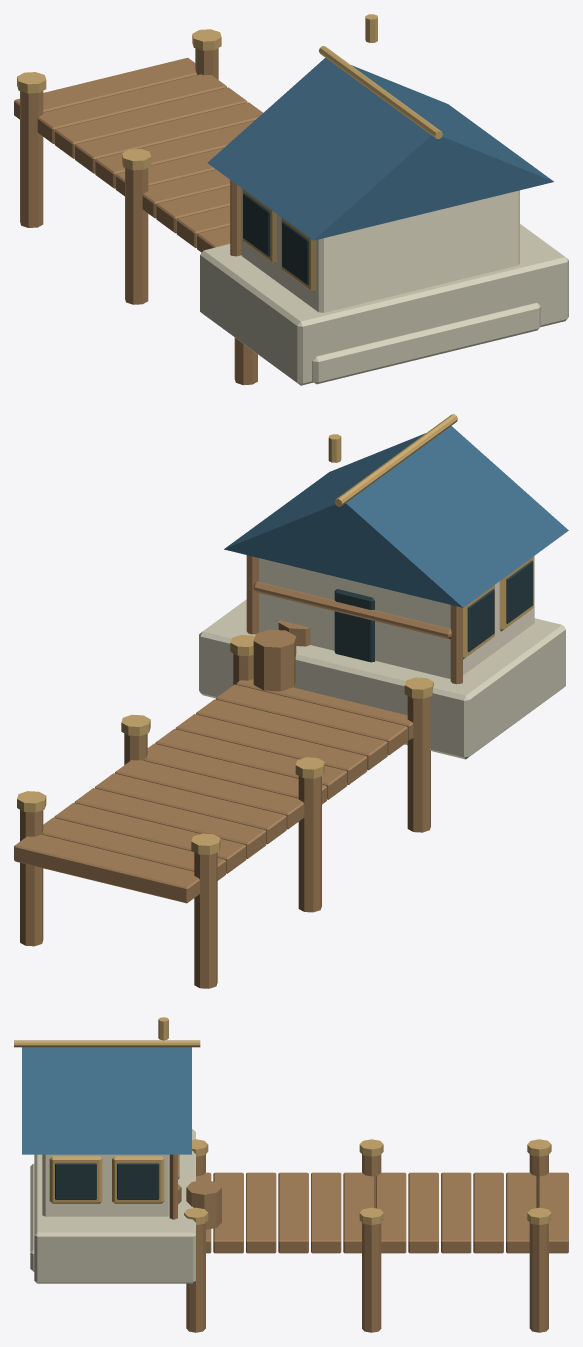
File: level_04.glb
The picture shows the model from 3 angles, top to bottom: view 1: azimuth 30°, elevation 25°; view 2: azimuth 150°, elevation 25°; view 3: azimuth 270°, elevation 25°; orthographic projection. The views are drawn at different scales.
Visible parts, largest first — view 1: fishing_wharf — level 04; view 2: fishing_wharf — level 04; view 3: fishing_wharf — level 04.
Boxes of the visible parts, x1,y1,x2,y2 form: fishing_wharf — level 04: (14,14,568,385); fishing_wharf — level 04: (14,414,568,988); fishing_wharf — level 04: (14,1017,568,1332).
Size of the model in its own units: 3.1 by 3.84 by 6.86.
